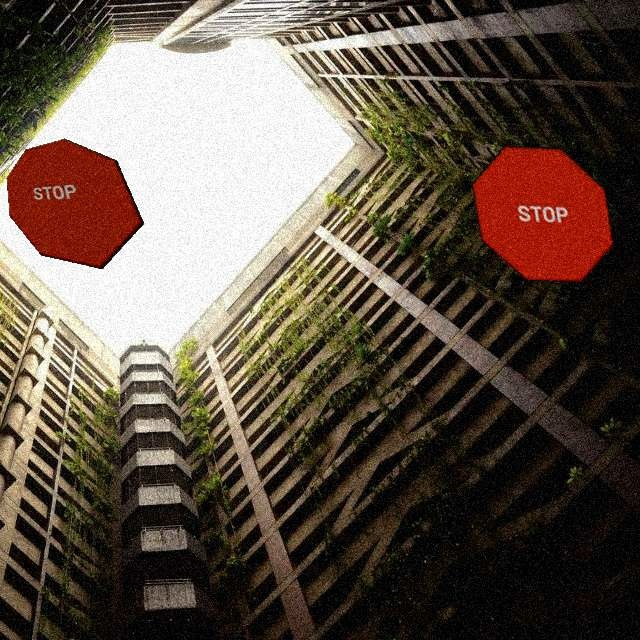STOP: (471, 145, 614, 282), (6, 138, 144, 269)
